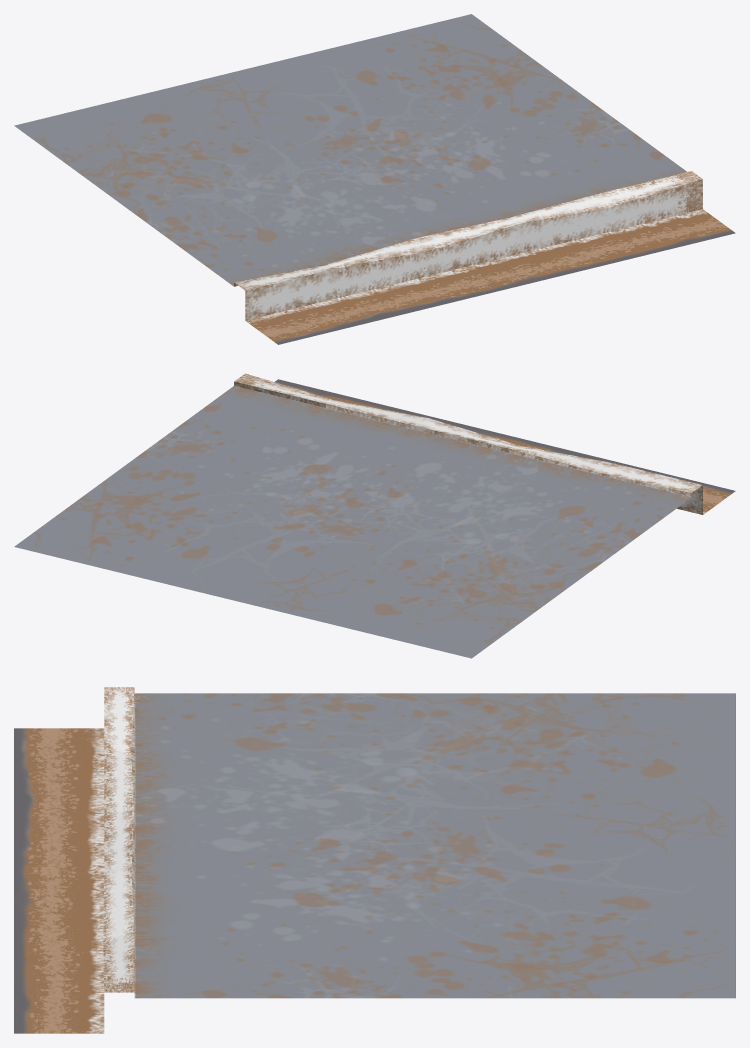
File: Manhole_04.fbx
3 views of the same model, one above another, from view 1: azimuth 30°, elevation 25°; view 2: azimuth 150°, elevation 25°; view 3: azimuth 270°, elevation 25° (orthographic). The views are drawn at different scales.
Parts seen in each view (by area): view 1: Manhole_04; view 2: Manhole_04; view 3: Manhole_04.
Boxes of the visible parts, box(x1,y1,x2,y2) form: Manhole_04: box(14, 14, 735, 344); Manhole_04: box(14, 373, 735, 658); Manhole_04: box(14, 687, 735, 1033).
Size of the model in its own units: 250 by 15.69 by 250.
